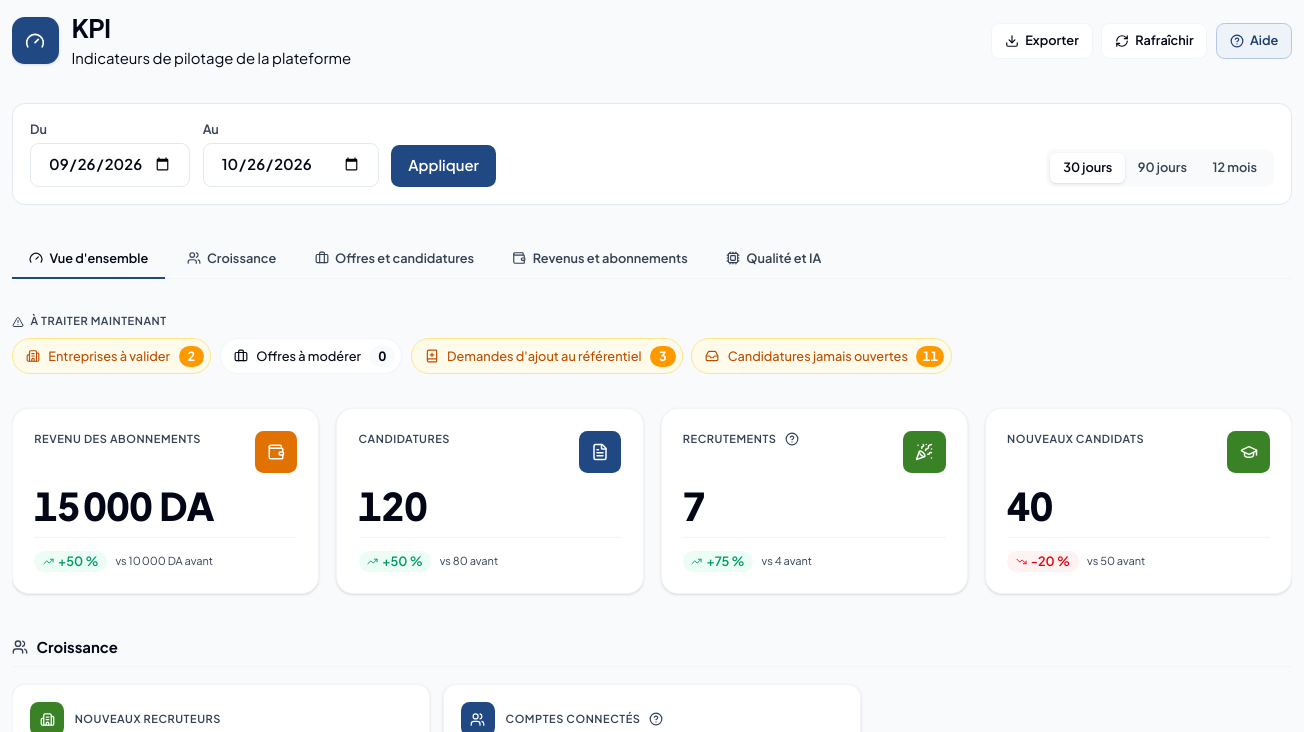
it: 📈 UI & Logique - Composant <AdminKpi /> › propose de réessayer quand le détail ne charge pas
Click the tab "Revenus et abonnements" at (600, 259), box [495, 239, 705, 279]
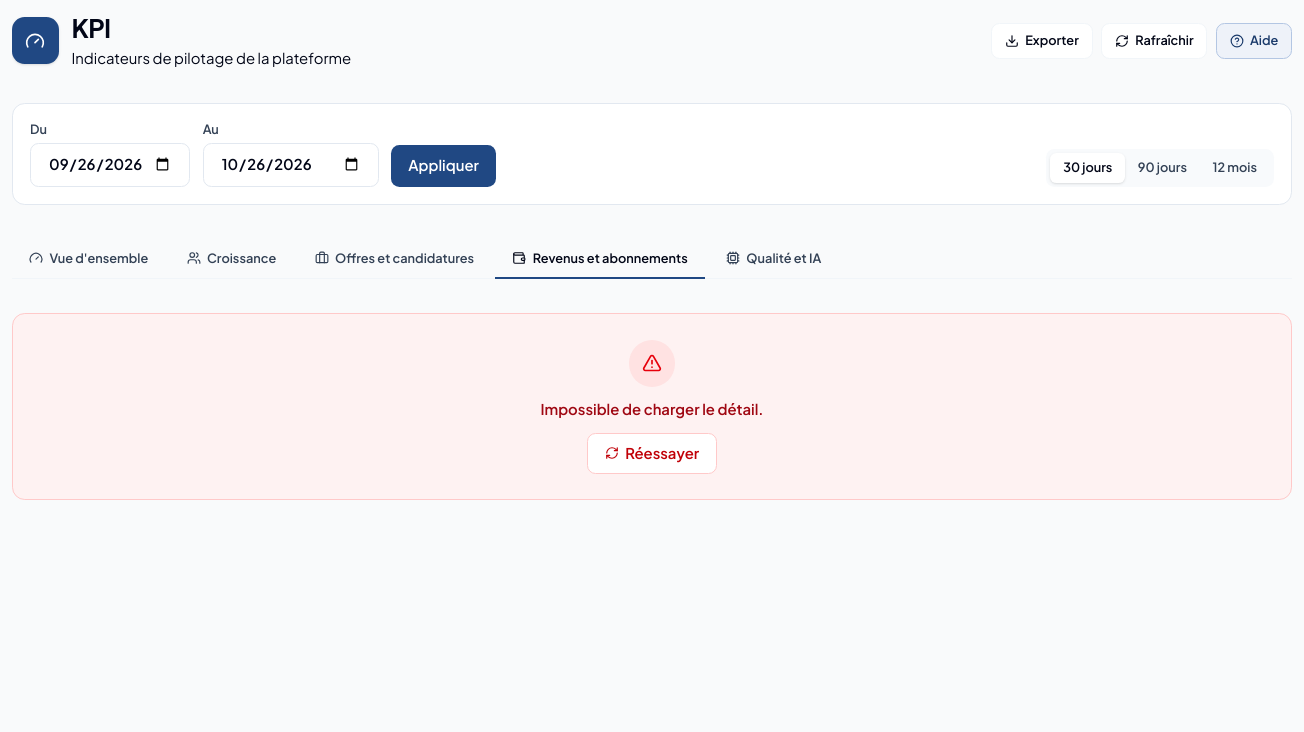
Expected: the text "Impossible de charger le détail." is shown, [540, 399, 764, 421]
